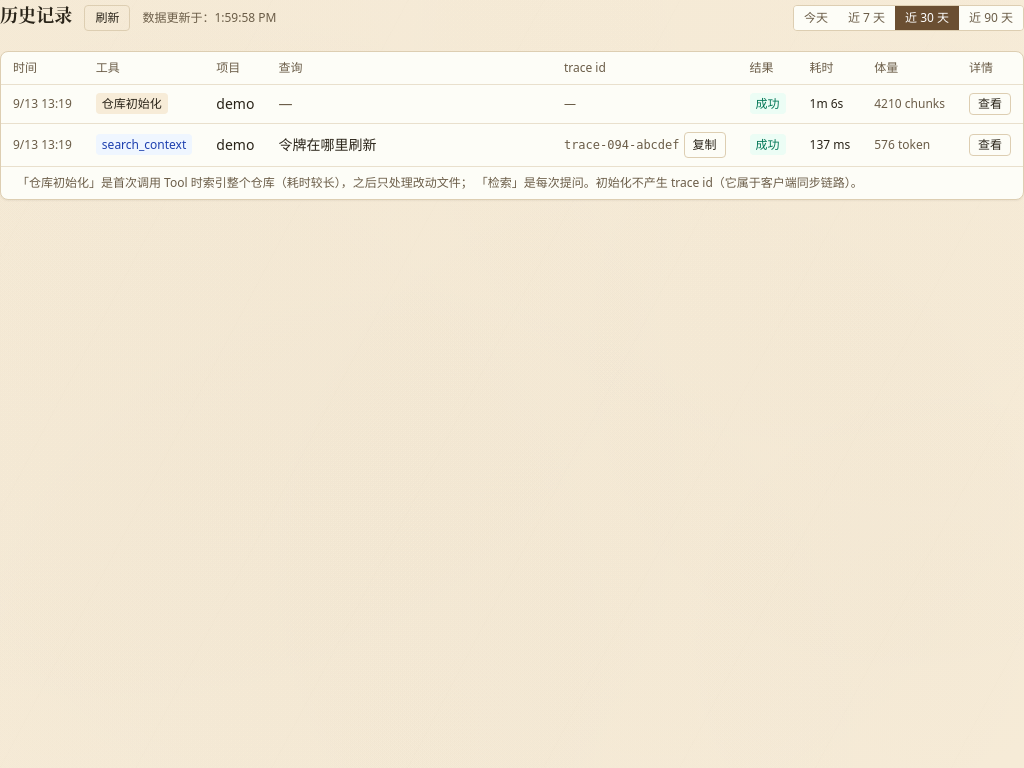
Test case: §需求2 合并表格（TASK-100） › 「查看」按钮弹出两个可滚动代码块（Tool 输入 / 输出）
Click the button "查看" in the row of "search_context" at (990, 145), box left=969, top=134, right=1011, bottom=156
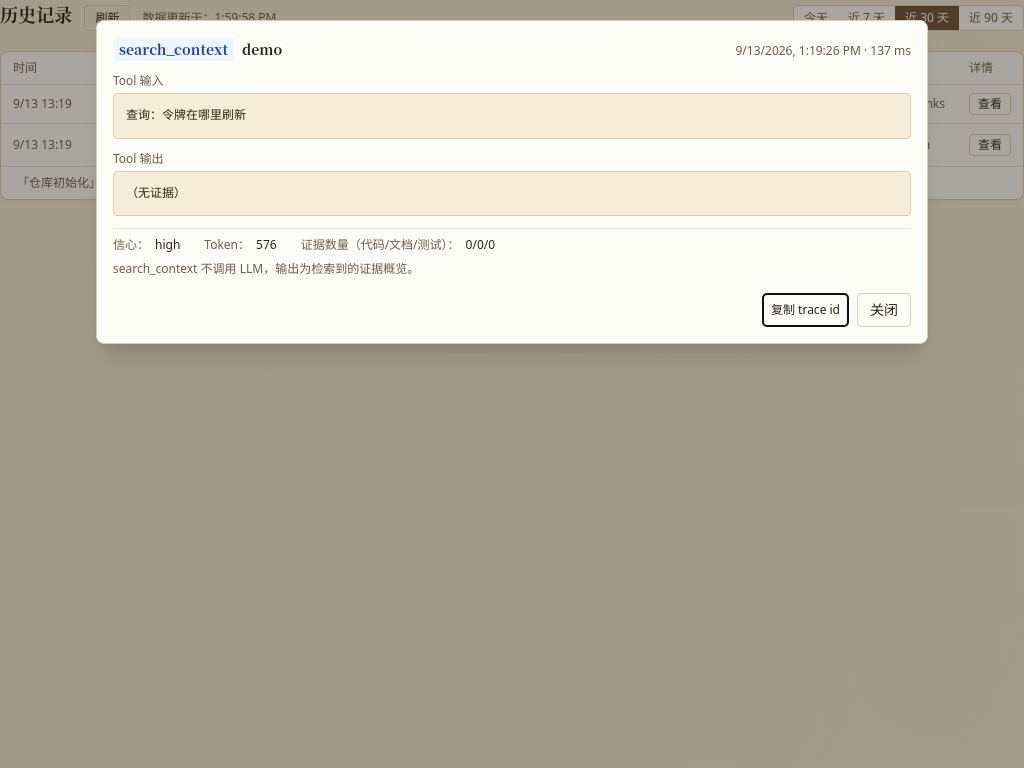
Now the text "Tool 输入" is shown, box left=113, top=72, right=164, bottom=89
Now the text "Tool 输出" is shown, box left=113, top=150, right=164, bottom=166
Now the text "查询：令牌在哪里刷新" is shown, box left=113, top=93, right=911, bottom=138
